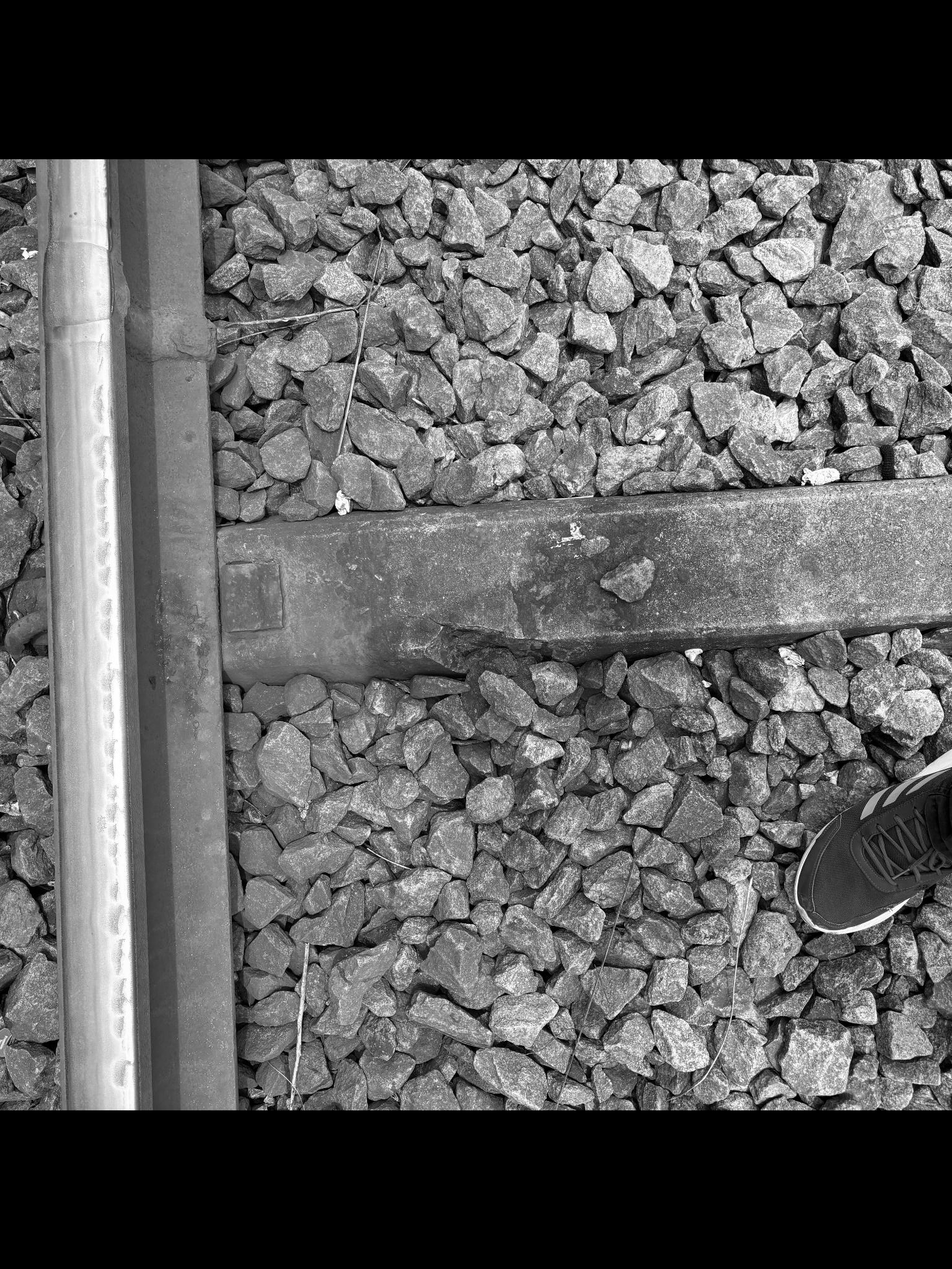cracks in midportion: (269, 545, 599, 710)
